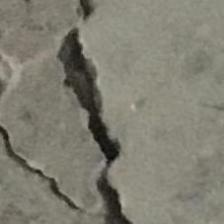Crack: (0, 0, 166, 223)
